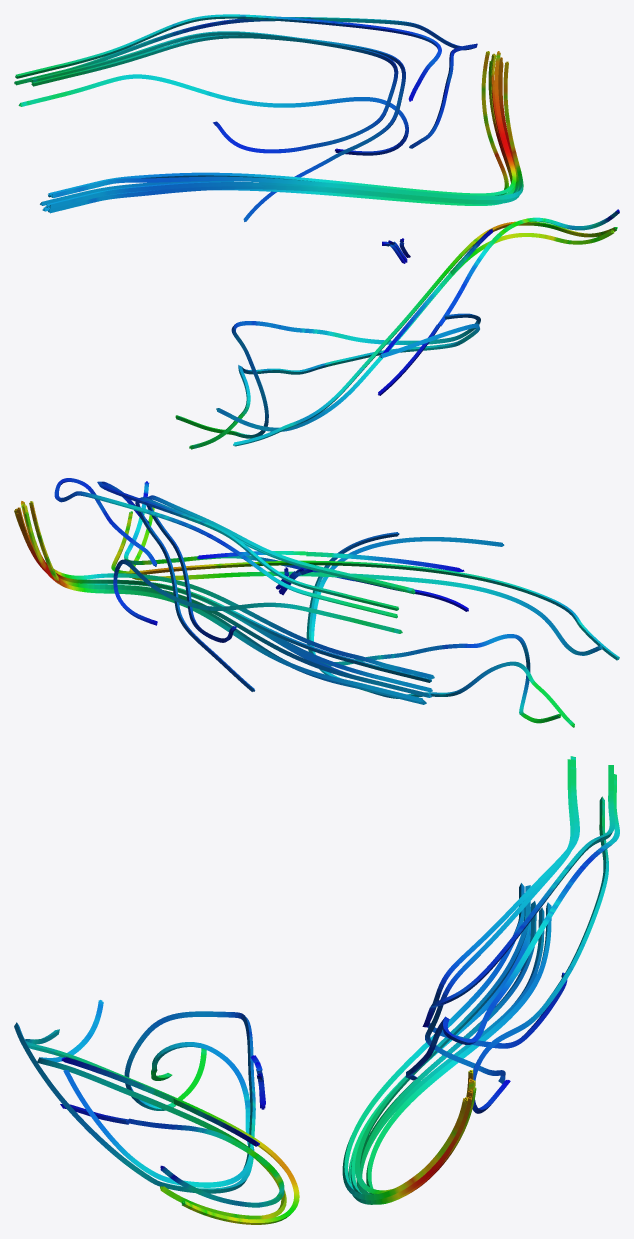
3 renders of one model, top to bottom at view 1: azimuth 30°, elevation 25°; view 2: azimuth 150°, elevation 25°; view 3: azimuth 270°, elevation 25°, orthographic. The views are drawn at different scales.
Parts seen in each view (by area): view 1: VIFS001; view 2: VIFS001; view 3: VIFS001.
Part boxes in pixels (<box>): VIFS001: <box>14,14,619,449</box>; VIFS001: <box>14,478,619,727</box>; VIFS001: <box>14,756,619,1224</box>.
Size of the model in its own units: 0.3996 by 0.2356 by 0.3777.
